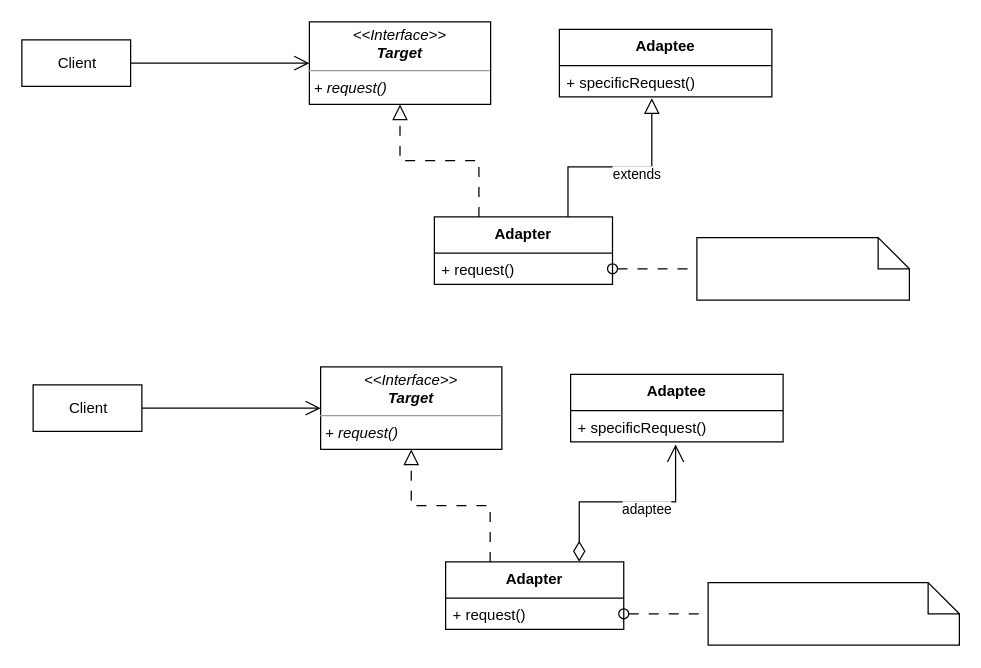
Some shapes in this 981 by 668 pixel diagram are drawn without their labels. The box of each missing label's shape, as (x1, y1, x2, y2) in pixels:
super.specificRequest();: (696, 236, 909, 300)
this.adaptee.specificRequest();: (707, 581, 959, 645)
